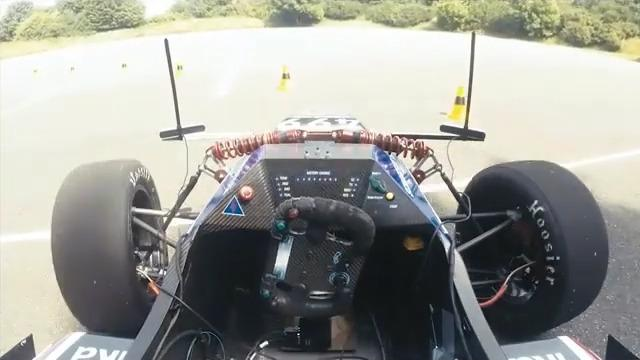yellow_cone: (448, 86, 473, 121), (276, 64, 296, 92)
